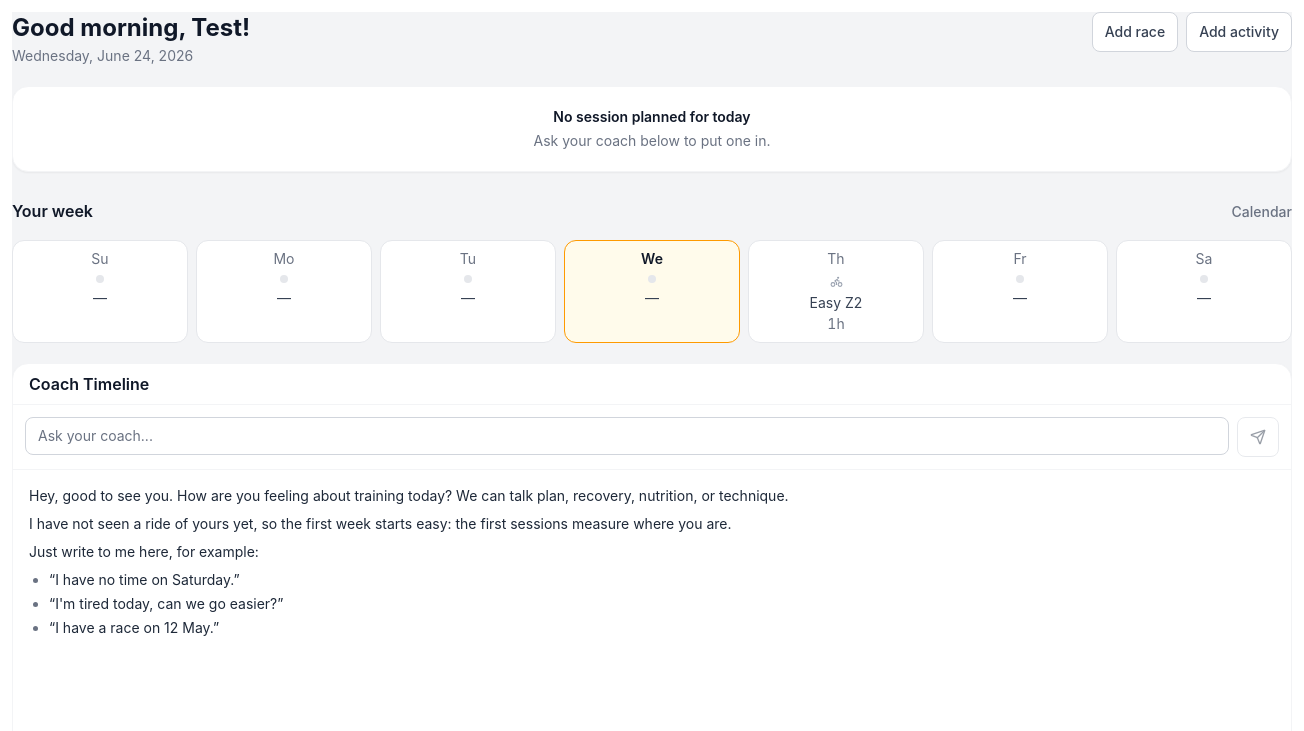
Scenario: DashboardPage — Activities section layout › shows the week even when no ride has been logged yet
Expected: the heading "Your week" is shown, [12,199,93,223]
Click the button "Th Easy Z2 1h" at (836, 291), box [748,240,924,342]
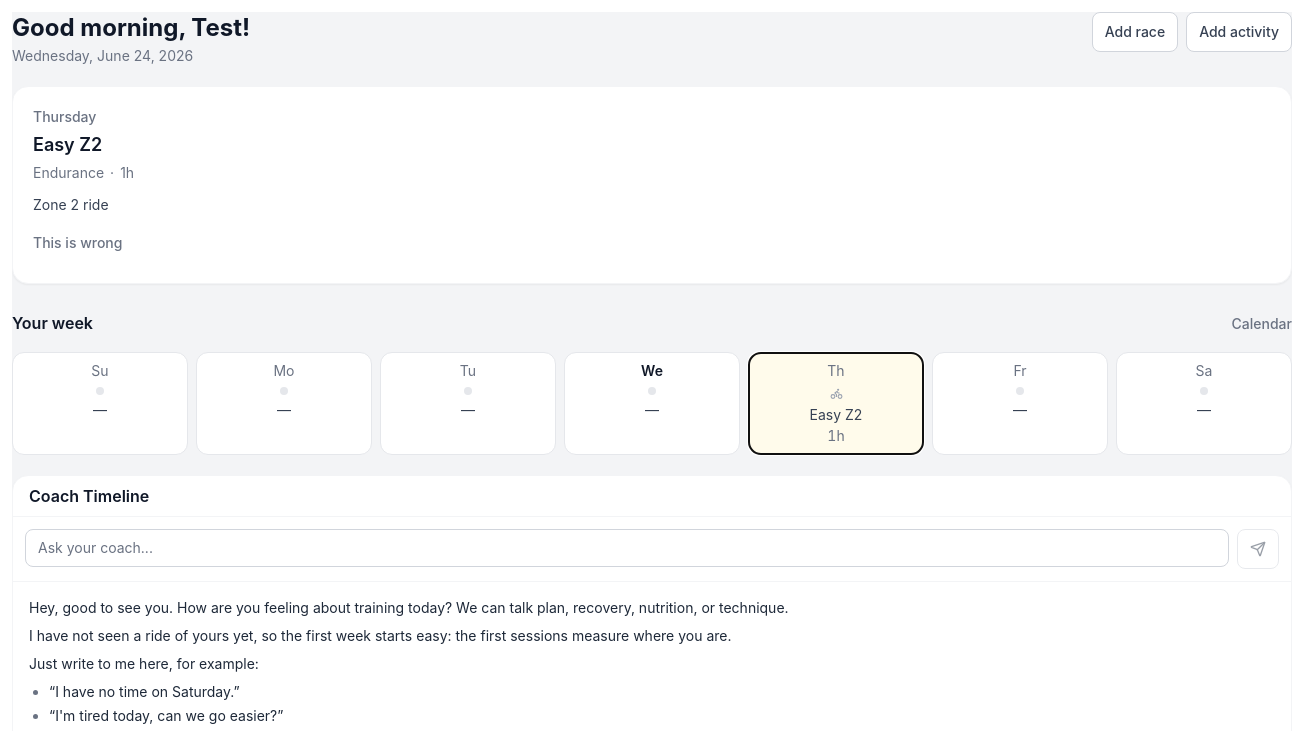
Expected: the heading "Easy Z2" is shown, [33,134,102,155]
